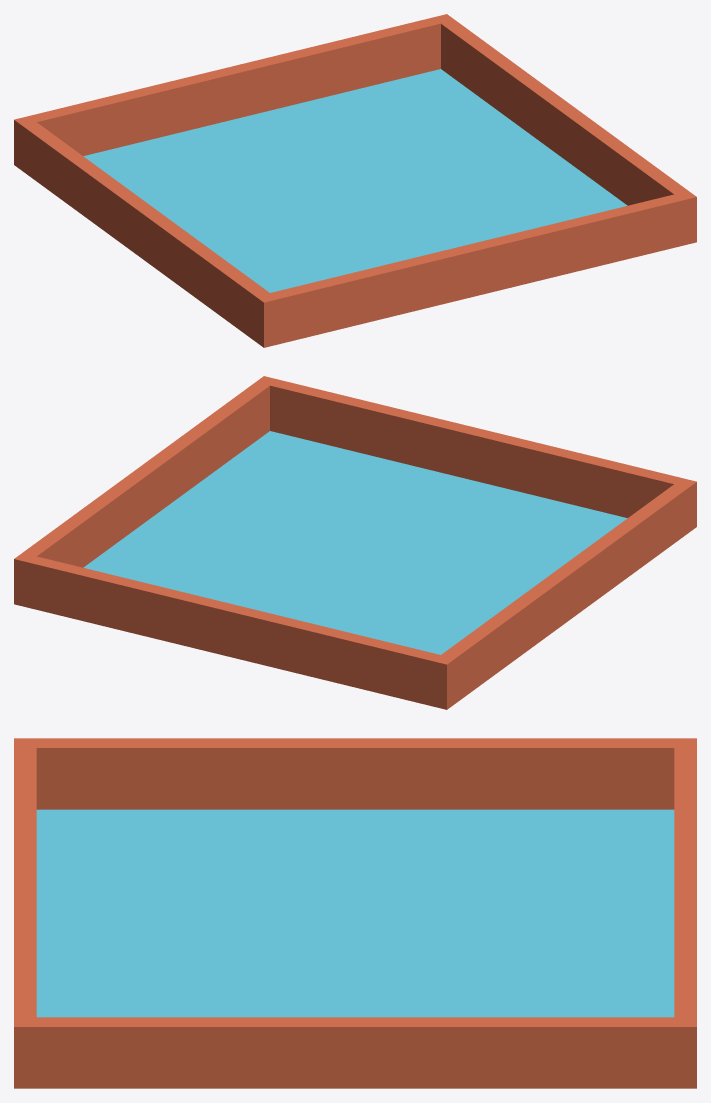
Rendered from Environment.fbx.
The picture shows the model from 3 angles, top to bottom: view 1: azimuth 30°, elevation 25°; view 2: azimuth 150°, elevation 25°; view 3: azimuth 270°, elevation 25°; orthographic projection. The views are drawn at different scales.
Visible parts, largest first — view 1: Plane, Wall 2, Wall 3, Wall 1, Wall; view 2: Plane, Wall 3, Wall 2, Wall 1, Wall; view 3: Plane, Wall, Wall 1, Wall 3, Wall 2.
Boxes of the visible parts, left/top/right/bottom form: Plane: left=83, top=69, right=627, bottom=292; Wall 2: left=255, top=194, right=696, bottom=347; Wall 3: left=14, top=14, right=451, bottom=168; Wall 1: left=14, top=116, right=278, bottom=347; Wall: left=433, top=14, right=696, bottom=245; Plane: left=83, top=431, right=627, bottom=654; Wall 3: left=14, top=556, right=455, bottom=709; Wall 2: left=258, top=376, right=696, bottom=526; Wall 1: left=432, top=478, right=696, bottom=709; Wall: left=14, top=376, right=277, bottom=607; Plane: left=36, top=809, right=674, bottom=1017; Wall: left=14, top=1017, right=696, bottom=1088; Wall 1: left=14, top=738, right=696, bottom=809; Wall 3: left=674, top=738, right=696, bottom=1088; Wall 2: left=14, top=738, right=36, bottom=1088.
Bounding box in the file's own units: 30000 × 3000 × 30000.
